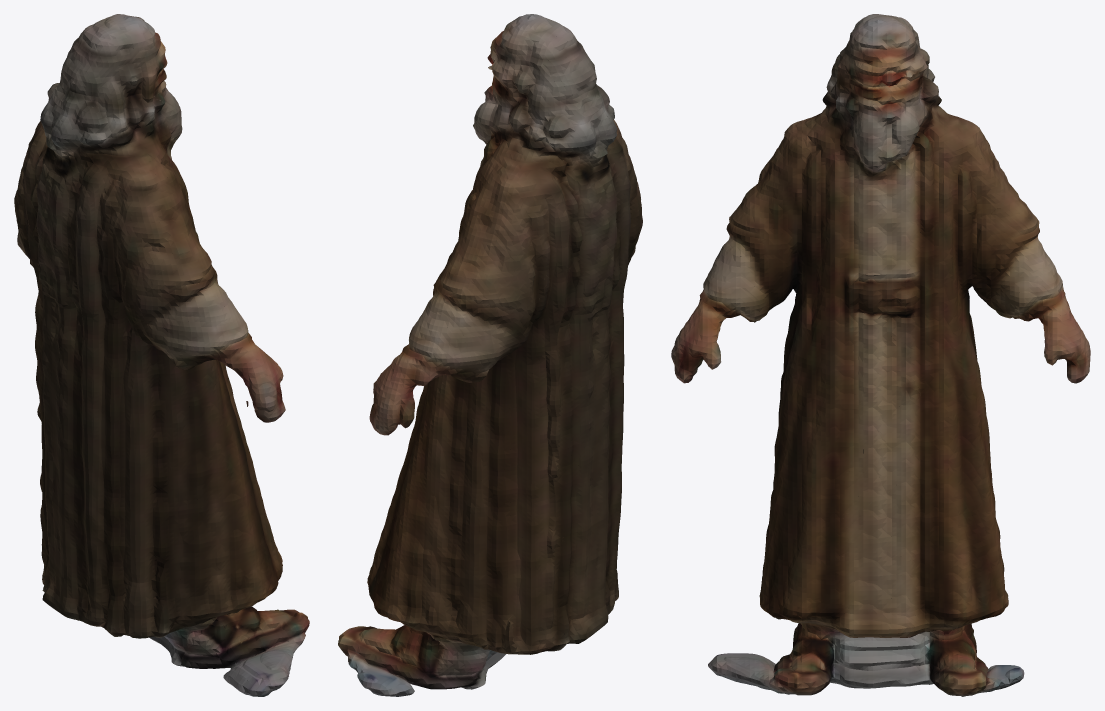
Rendered from CHR_Noah.glb.
3 renders of one model, left to right at view 1: azimuth 30°, elevation 25°; view 2: azimuth 150°, elevation 25°; view 3: azimuth 270°, elevation 25°, orthographic. The views are drawn at different scales.
Visible parts, largest first — view 1: geometry_0; view 2: geometry_0; view 3: geometry_0.
Boxes of the visible parts, x1,y1,x2,y2 form: geometry_0: (14, 14, 309, 696); geometry_0: (338, 14, 642, 696); geometry_0: (671, 14, 1090, 696).
Bounding box in the file's own units: 0.3636 × 1.01 × 0.6058.
Materials: 1 (1 with a texture image).
